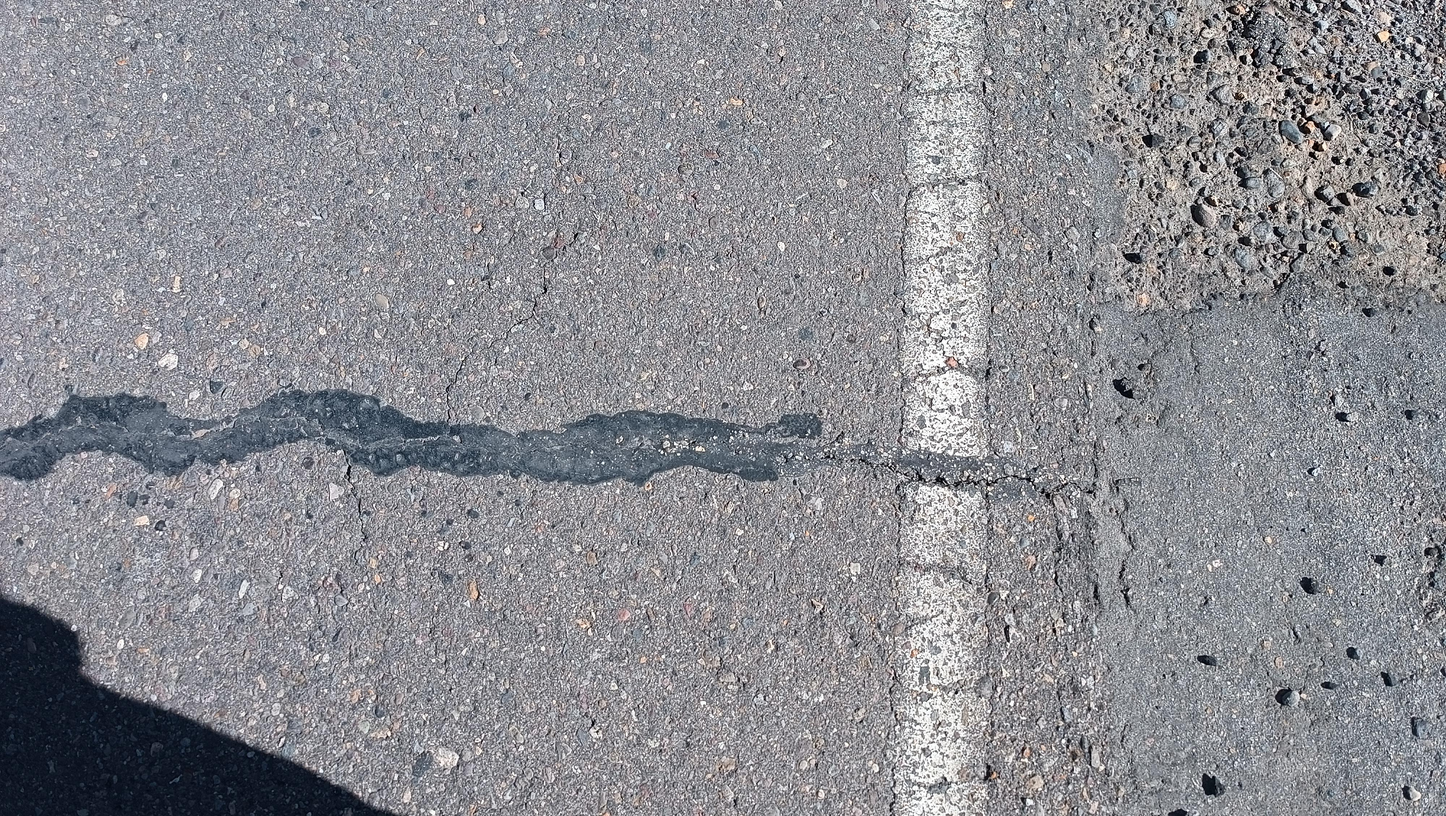GRIETA: (828, 455, 1064, 542)
PARCHE: (1066, 280, 1446, 814), (0, 390, 822, 484)
